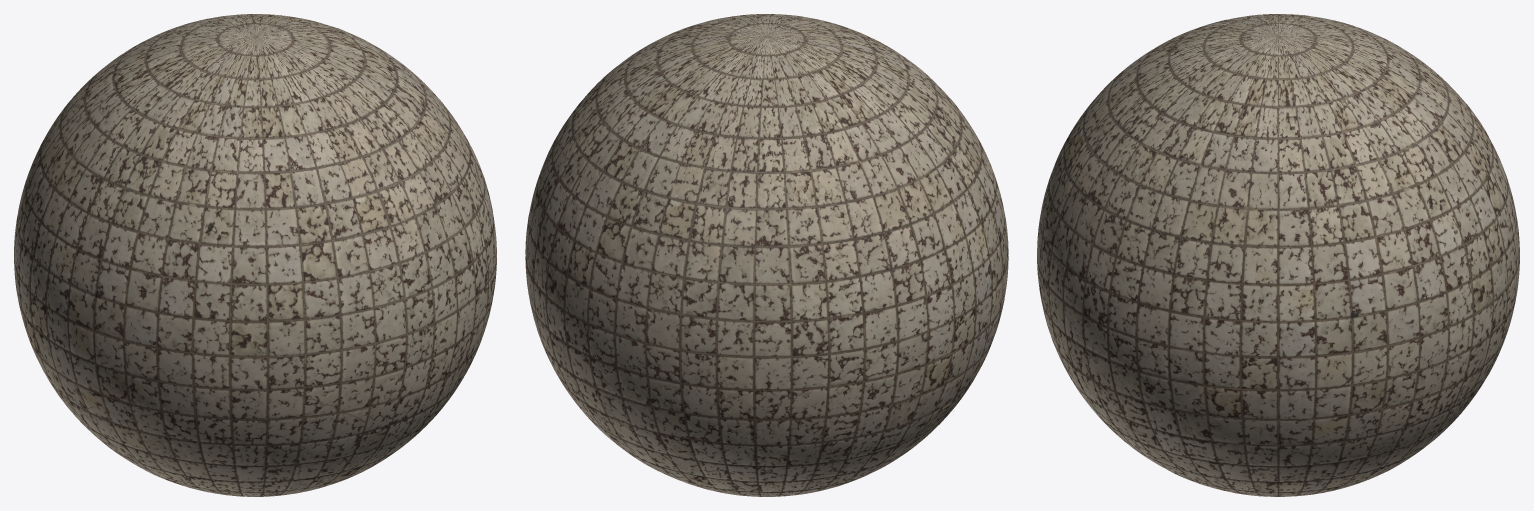
Rendered from marble_tiles_1k.gltf.
The picture shows the model from 3 angles, left to right: view 1: azimuth 30°, elevation 25°; view 2: azimuth 150°, elevation 25°; view 3: azimuth 270°, elevation 25°; orthographic projection.
Parts seen in each view (by area): view 1: sphere_gltf; view 2: sphere_gltf; view 3: sphere_gltf.
Boxes of the visible parts, x1=… form: sphere_gltf: x1=14, y1=14, x2=496, y2=496; sphere_gltf: x1=525, y1=14, x2=1008, y2=496; sphere_gltf: x1=1037, y1=14, x2=1519, y2=496.
Bounding box in the file's own units: 2 × 2 × 2.
Materials: 1 (1 with a texture image).
